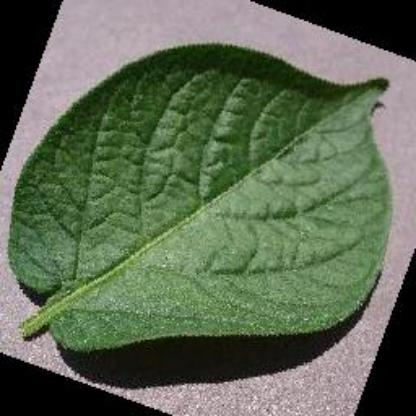Healthy-plant: (9, 39, 394, 383)
